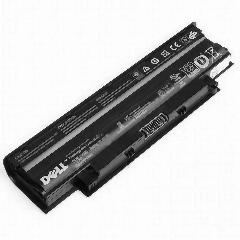electronic: (1, 2, 239, 240)
